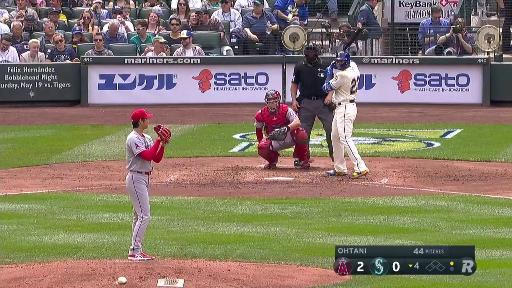pitcher: (125, 108, 173, 261)
